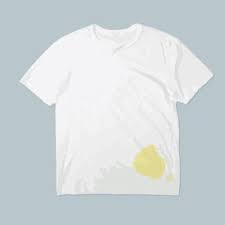lipstick: (134, 143, 165, 177), (168, 172, 176, 183)
